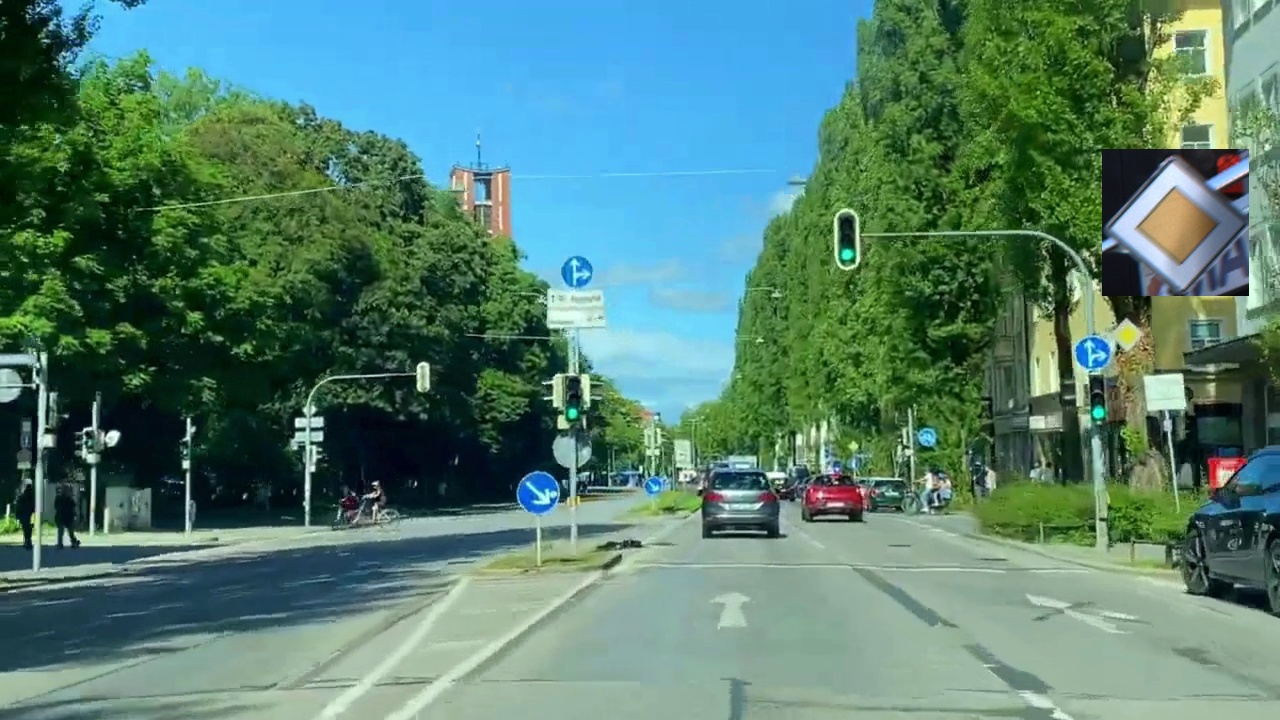Priority road: (1102, 149, 1249, 296)
